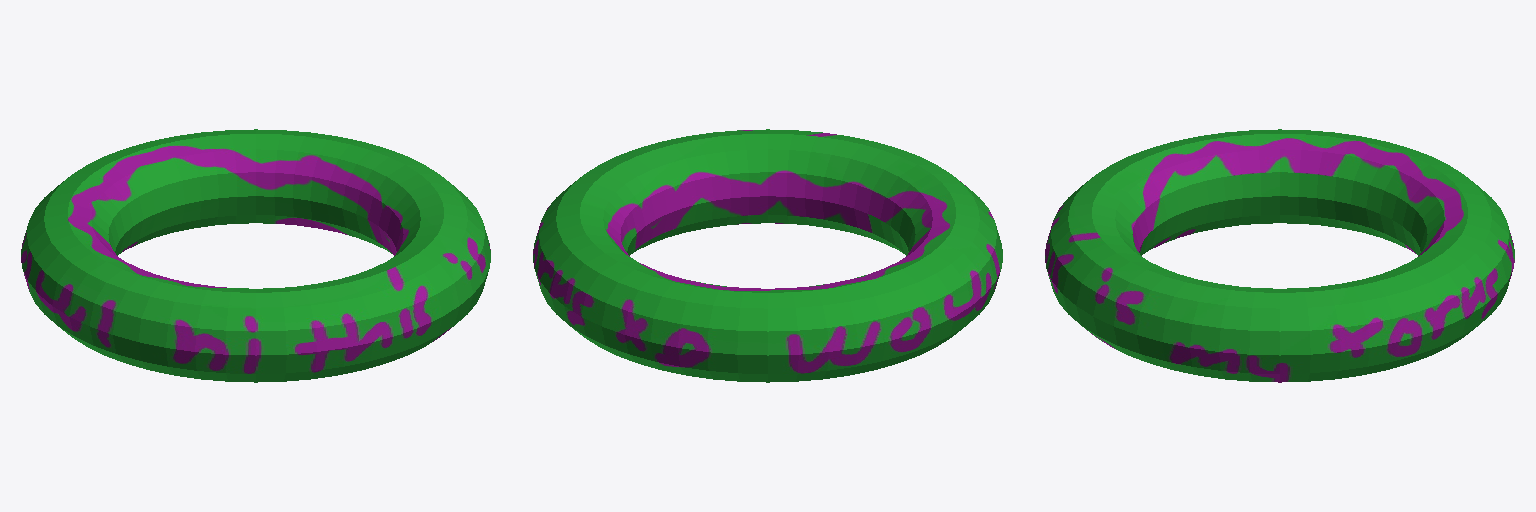
The picture shows the model from 3 angles: view 1: azimuth 30°, elevation 25°; view 2: azimuth 150°, elevation 25°; view 3: azimuth 270°, elevation 25°; orthographic projection.
Visible parts, largest first — view 1: Torus; view 2: Torus; view 3: Torus.
Boxes of the visible parts, box(x1,y1,x2,y2) form: Torus: box(21, 129, 490, 382); Torus: box(533, 129, 1002, 382); Torus: box(1045, 129, 1514, 382).
Size of the model in its own units: 2.5 by 0.5 by 2.5.
Materials: 1 (1 with a texture image).